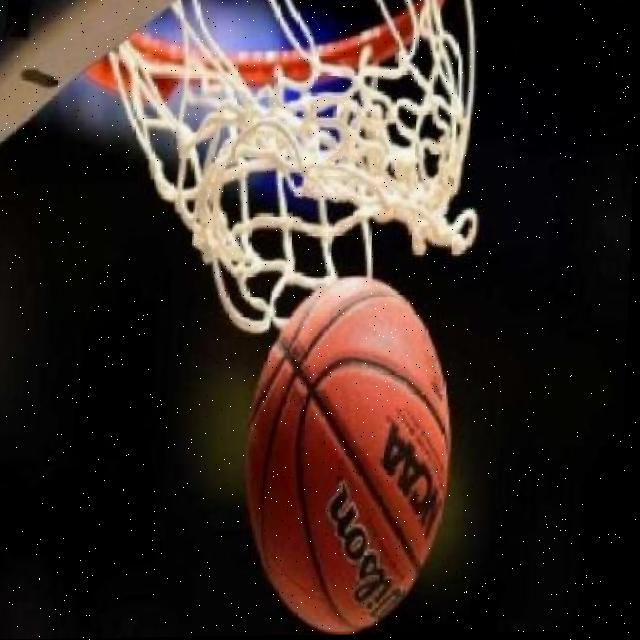basketball: (233, 273, 461, 636)
hoop: (73, 0, 493, 340)
